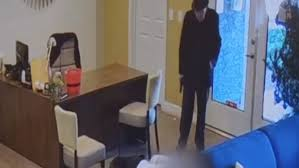gun: (178, 72, 185, 95)
